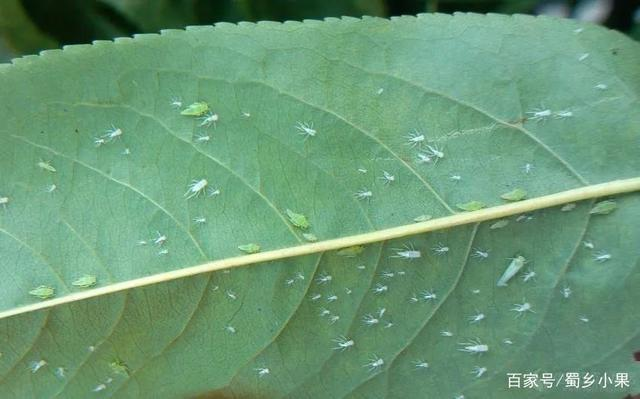Cicadellidae: (496, 253, 528, 287), (286, 117, 321, 141), (454, 336, 492, 358), (509, 297, 538, 322), (179, 174, 209, 198), (389, 242, 420, 262), (331, 242, 366, 259), (284, 208, 311, 230), (586, 197, 618, 215), (527, 103, 552, 126), (100, 121, 125, 143), (329, 332, 354, 354), (403, 125, 427, 147), (422, 141, 449, 159), (110, 355, 132, 377), (361, 352, 384, 373), (195, 109, 220, 128), (467, 305, 488, 327), (500, 188, 532, 202), (30, 284, 56, 301), (180, 101, 209, 116), (71, 273, 98, 289), (33, 157, 60, 173), (551, 104, 575, 120), (311, 270, 335, 286), (593, 247, 614, 265), (369, 282, 392, 298), (455, 200, 488, 211), (360, 311, 379, 330), (27, 358, 49, 374), (193, 127, 214, 143), (352, 189, 376, 203), (412, 210, 437, 223), (521, 267, 539, 285), (471, 362, 489, 380), (149, 230, 168, 247), (376, 168, 396, 184), (239, 241, 261, 255), (191, 212, 210, 228), (420, 288, 439, 304), (488, 217, 511, 230), (90, 377, 106, 395), (575, 46, 592, 62), (253, 363, 271, 378), (414, 151, 432, 166), (560, 283, 574, 302), (410, 358, 432, 370), (207, 185, 224, 200), (435, 327, 456, 339), (377, 267, 397, 279), (222, 322, 239, 336), (519, 160, 535, 174), (574, 312, 590, 326), (472, 248, 489, 261), (168, 96, 184, 109), (301, 230, 318, 242), (225, 289, 240, 302), (132, 235, 147, 247), (293, 270, 308, 282), (218, 266, 234, 277), (433, 243, 449, 254), (408, 291, 421, 304), (92, 135, 104, 148), (449, 172, 463, 183), (1, 189, 9, 208), (317, 308, 332, 318), (55, 365, 65, 379), (323, 295, 340, 303), (560, 202, 575, 211), (239, 109, 251, 120), (374, 86, 385, 98), (330, 314, 342, 325), (383, 320, 395, 331), (312, 291, 322, 304), (354, 262, 367, 272), (377, 307, 387, 319), (583, 239, 595, 249), (45, 184, 58, 193), (572, 26, 585, 35), (515, 214, 529, 222), (470, 286, 481, 296), (344, 285, 353, 297), (393, 268, 405, 277), (158, 246, 168, 256), (284, 277, 294, 287), (122, 144, 130, 156), (452, 392, 468, 398), (502, 338, 514, 346), (210, 283, 221, 291), (595, 82, 606, 90), (357, 167, 368, 174)
